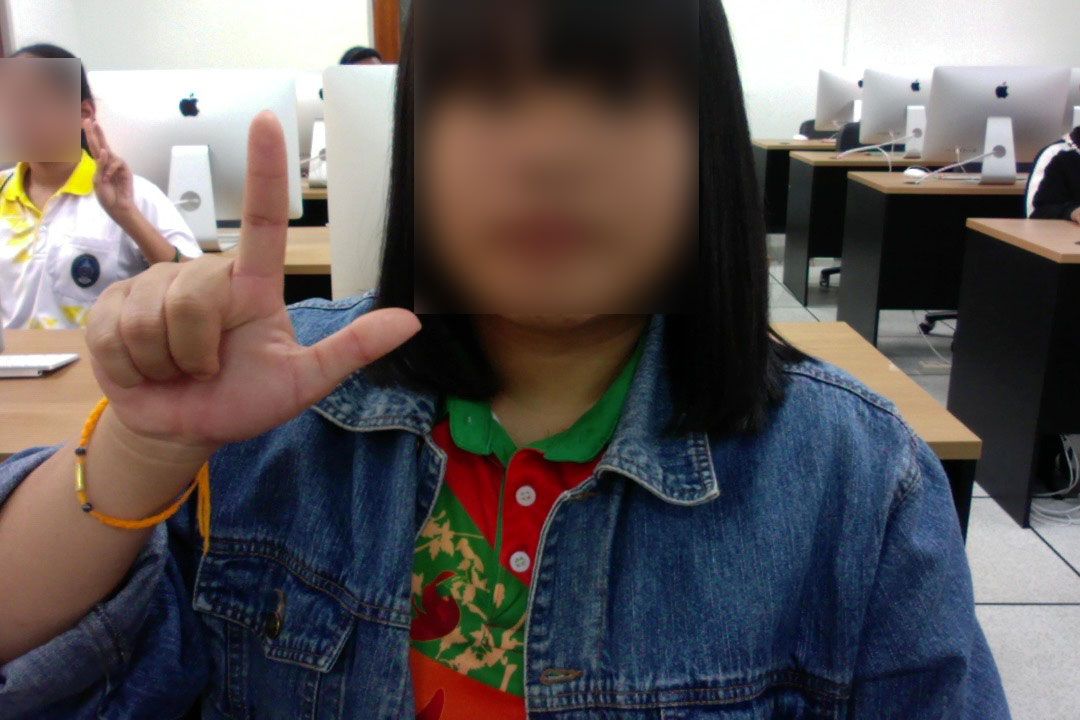lor: (72, 100, 434, 449)
